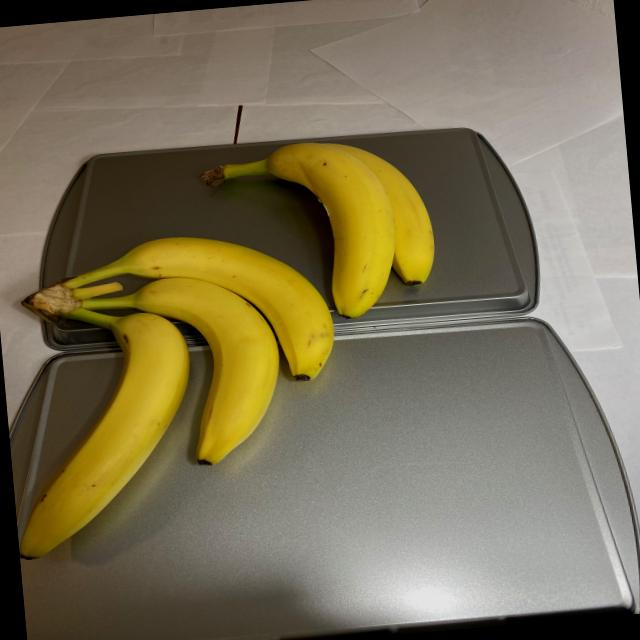banana: (0, 131, 460, 564)
